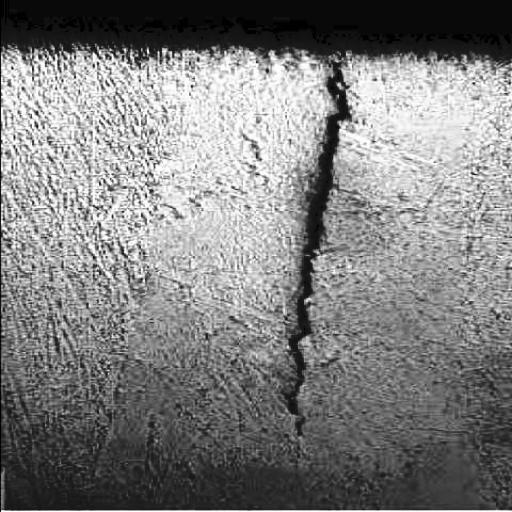crack: (285, 63, 347, 436)
